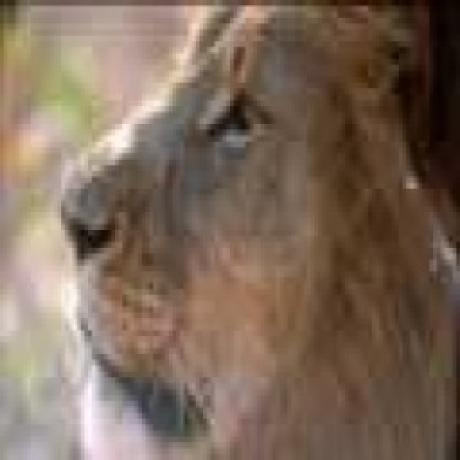Lion: (52, 0, 460, 460)
